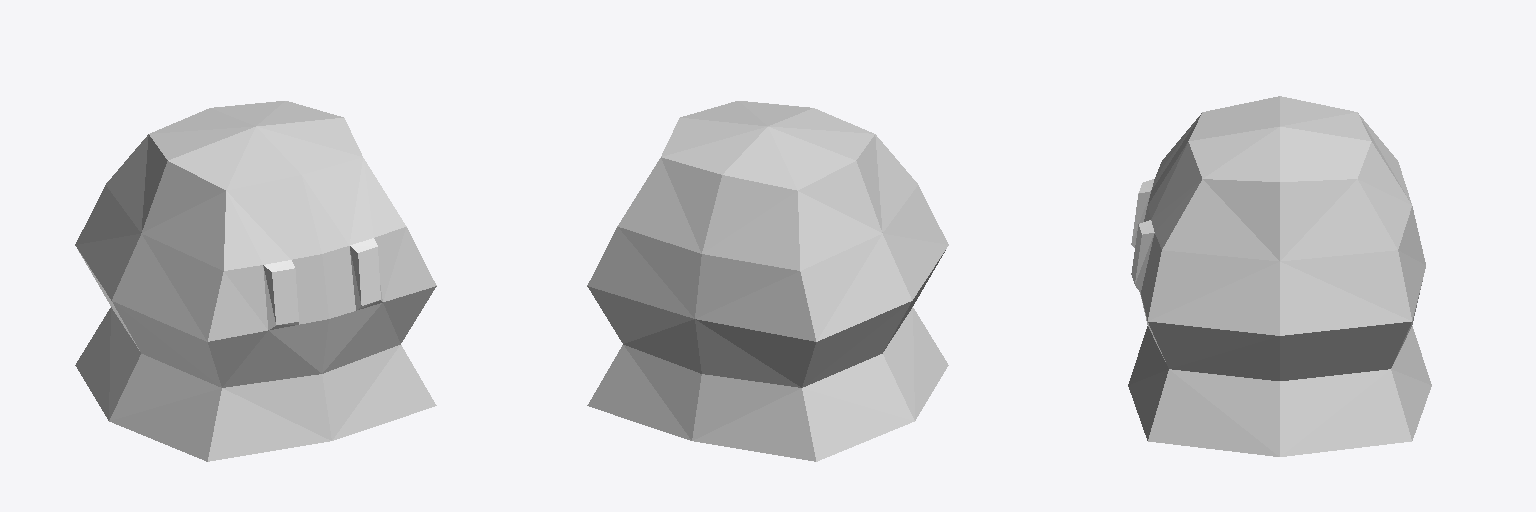
3 renders of one model, left to right at view 1: azimuth 30°, elevation 25°; view 2: azimuth 150°, elevation 25°; view 3: azimuth 270°, elevation 25°, orthographic.
Visible parts, largest first — view 1: Slime_立方体; view 2: Slime_立方体; view 3: Slime_立方体.
Part boxes in pixels (left/top/right/bottom): Slime_立方体: left=75, top=101, right=436, bottom=461; Slime_立方体: left=587, top=101, right=948, bottom=461; Slime_立方体: left=1128, top=96, right=1431, bottom=456.
Size of the model in its own units: 2.57 by 2.16 by 2.3.
1 materials, 1 textured.